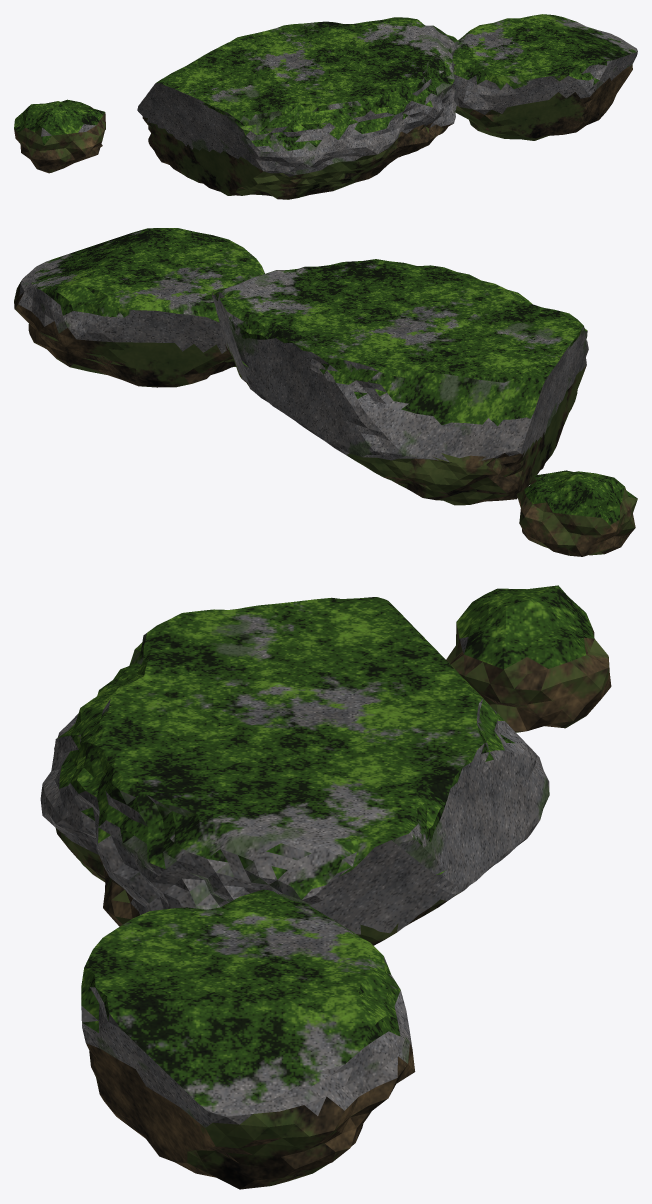
File: Boulder_Granite_C.glb
The picture shows the model from 3 angles, top to bottom: view 1: azimuth 30°, elevation 25°; view 2: azimuth 150°, elevation 25°; view 3: azimuth 270°, elevation 25°; orthographic projection. The views are drawn at different scales.
Visible parts, largest first — view 1: Boulder_Granite_C__Stone; view 2: Boulder_Granite_C__Stone; view 3: Boulder_Granite_C__Stone.
Boxes of the visible parts, left/top/right/bottom form: Boulder_Granite_C__Stone: left=14, top=14, right=637, bottom=199; Boulder_Granite_C__Stone: left=14, top=228, right=637, bottom=556; Boulder_Granite_C__Stone: left=40, top=585, right=611, bottom=1189.
Bounding box in the file's own units: 24.35 × 4.1 × 11.12.
Materials: 1 (1 with a texture image).
